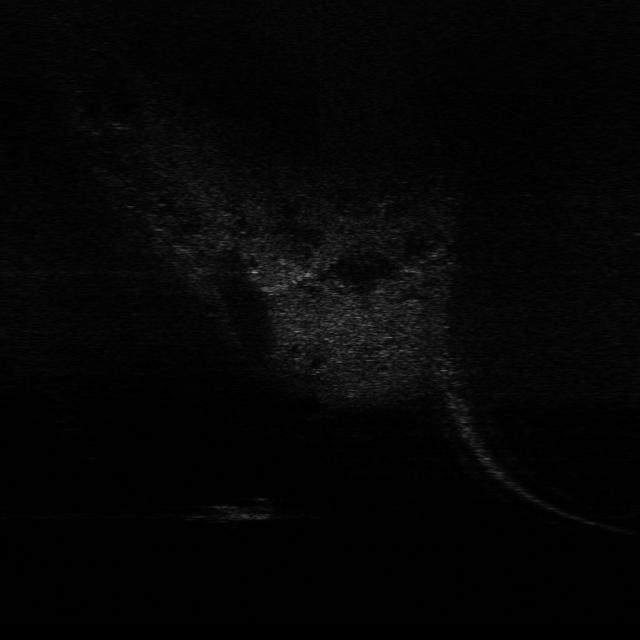cube: (197, 493, 277, 523)
